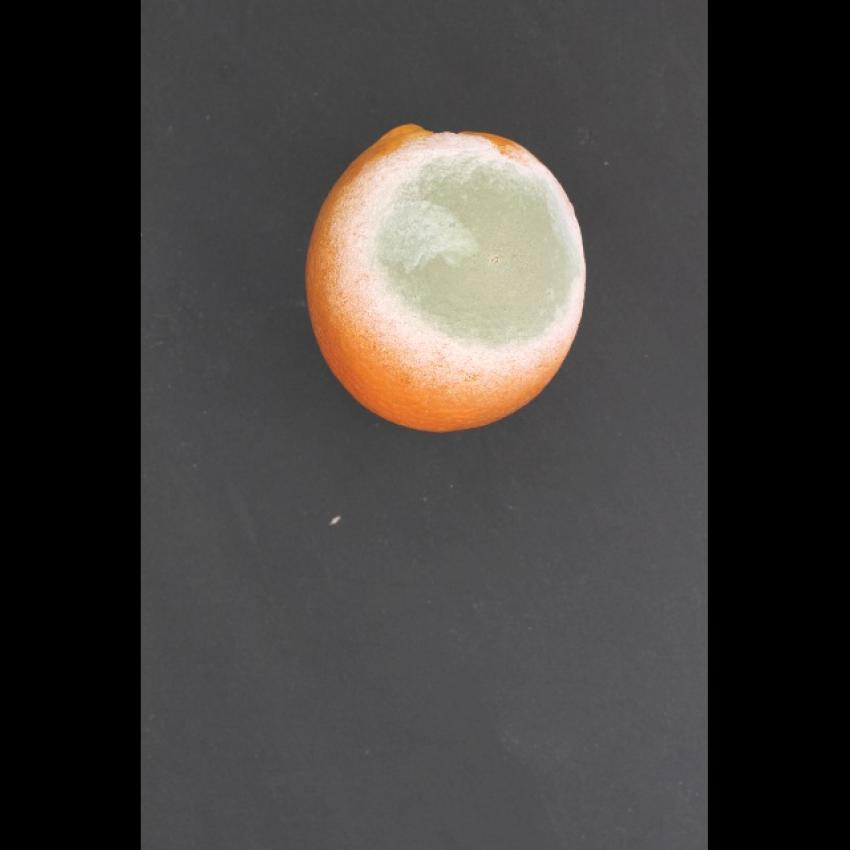Mal estado: (297, 112, 592, 440)
